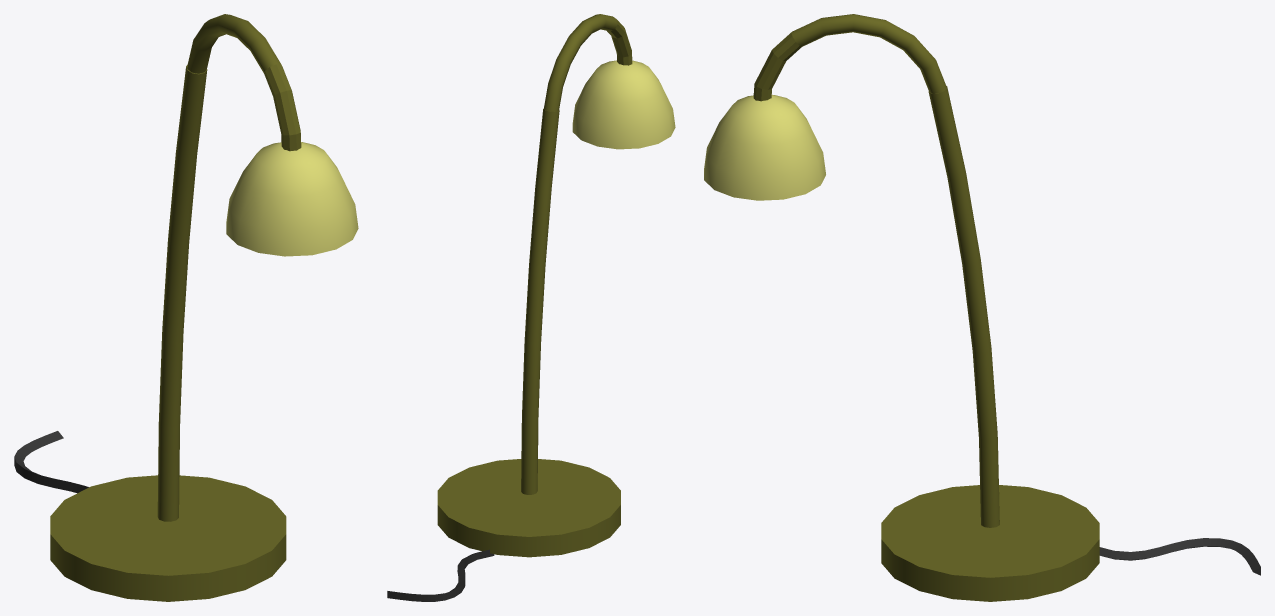
The model's file is lamp_standing.FBX.
3 renders of one model, left to right at view 1: azimuth 30°, elevation 25°; view 2: azimuth 150°, elevation 25°; view 3: azimuth 270°, elevation 25°, orthographic. The views are drawn at different scales.
Visible parts, largest first — view 1: Sphere001; view 2: Sphere001; view 3: Sphere001.
Part boxes in pixels (x1,y1,x2,y2): Sphere001: (14,14,358,601); Sphere001: (387,14,675,601); Sphere001: (704,14,1260,601).
Bounding box in the file's own units: 20 × 54.3 × 50.29.
2 materials, 2 textured.
